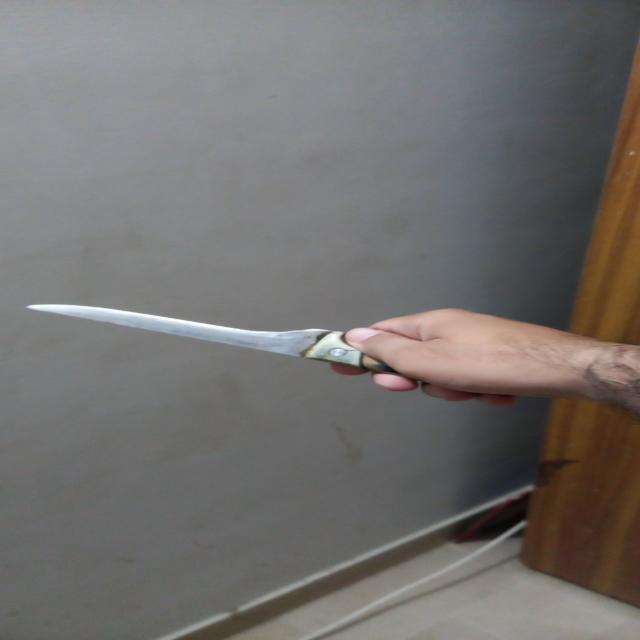knife: (24, 293, 426, 392)
